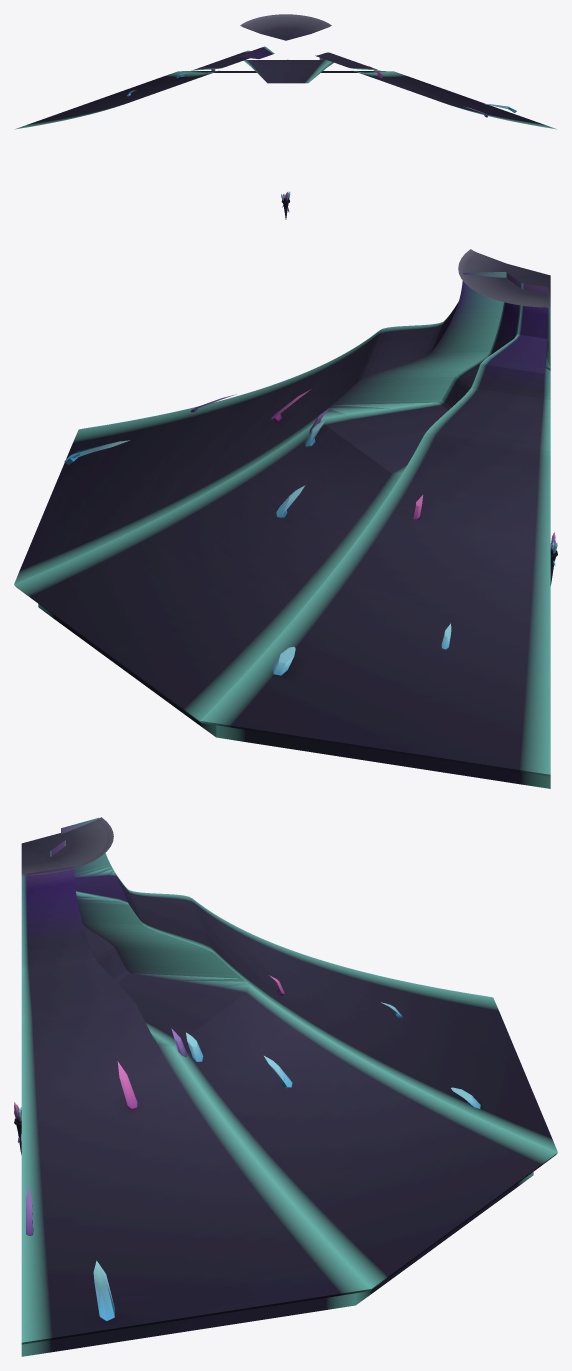
The model's file is caverns-s2-BXCnym89.glb.
3 views of the same model, one above another, from view 1: azimuth 30°, elevation 25°; view 2: azimuth 150°, elevation 25°; view 3: azimuth 270°, elevation 25° (orthographic). The views are drawn at different scales.
Visible parts, largest first — view 1: sc_landmark_0; view 2: sc_landmark_0; view 3: sc_landmark_0.
Boxes of the visible parts, bbox=[...] form: sc_landmark_0: bbox=[15, 14, 556, 129]; sc_landmark_0: bbox=[14, 249, 550, 788]; sc_landmark_0: bbox=[21, 817, 557, 1356].
Size of the model in its own units: 646 by 278 by 430.
